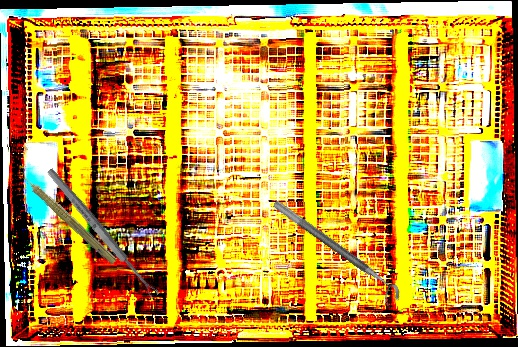Fixation Ring: (264, 198, 406, 311)
Handpiece: (14, 165, 121, 267)
Surgical Spoon: (45, 166, 160, 301)
